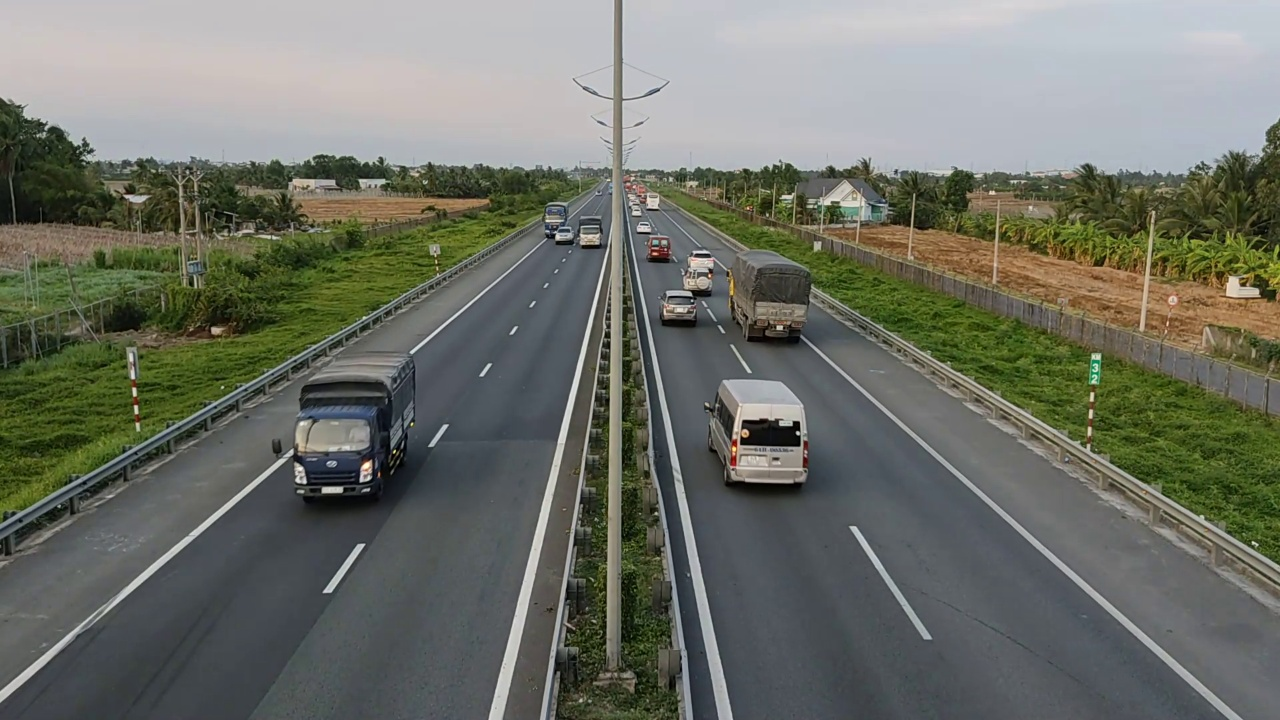car: (699, 376, 811, 490), (659, 289, 697, 325), (645, 235, 673, 261)
truck: (289, 351, 418, 505), (727, 249, 812, 343)
